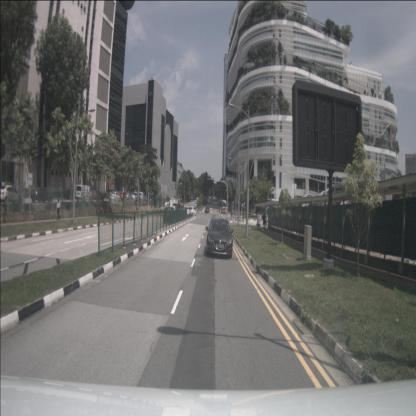barrier: (256, 214, 261, 226)
